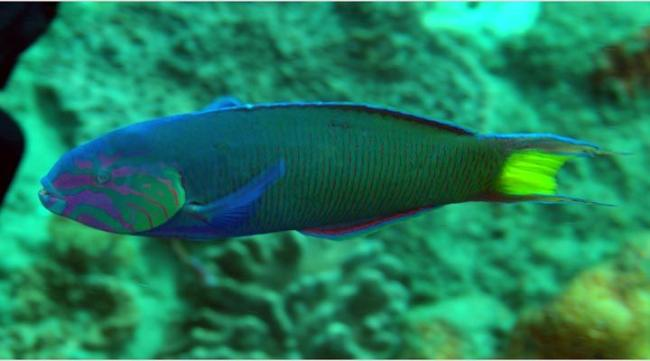fish: (38, 95, 633, 243)
